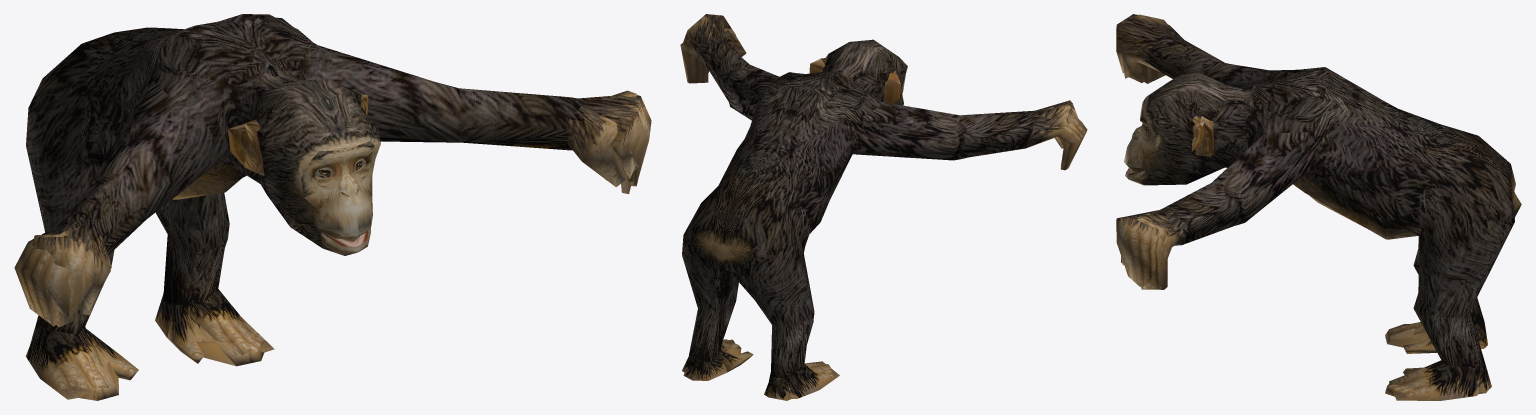
The model's file is adult.obj.
3 views of the same model, side by side, from view 1: azimuth 30°, elevation 25°; view 2: azimuth 150°, elevation 25°; view 3: azimuth 270°, elevation 25° (orthographic). The views are drawn at different scales.
Visible parts, largest first — view 1: Editable_Mesh, Editable_Mesh.001, Editable_Mesh.002; view 2: Editable_Mesh.001, Editable_Mesh.002, Editable_Mesh; view 3: Editable_Mesh.001, Editable_Mesh, Editable_Mesh.002.
Boxes of the visible parts, x1,y1,x2,y2 form: Editable_Mesh: (25,30,651,399); Editable_Mesh.001: (14,14,630,400); Editable_Mesh.002: (29,14,638,400); Editable_Mesh.001: (680,28,1087,396); Editable_Mesh.002: (682,16,1070,400); Editable_Mesh: (682,14,1078,398); Editable_Mesh.001: (1121,24,1515,396); Editable_Mesh: (1116,14,1521,400); Editable_Mesh.002: (1124,14,1515,392).
Size of the model in its own units: 1.34 by 0.8104 by 1.03.
3 materials, 3 textured.
